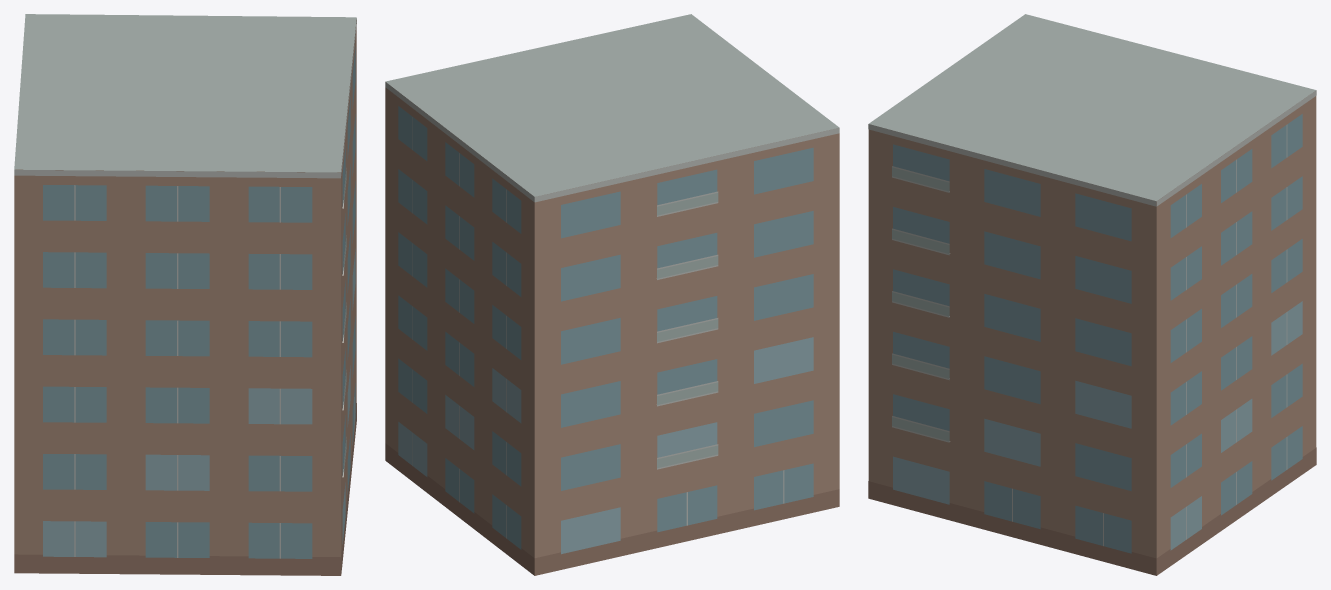
Rendered from survey-upis-32988986.glb.
3 renders of one model, left to right at view 1: azimuth 30°, elevation 25°; view 2: azimuth 150°, elevation 25°; view 3: azimuth 270°, elevation 25°, orthographic. The views are drawn at different scales.
Visible parts, largest first — view 1: survey-upis-32988986.tmp; view 2: survey-upis-32988986.tmp; view 3: survey-upis-32988986.tmp.
Boxes of the visible parts, x1,y1,x2,y2 form: survey-upis-32988986.tmp: (14,14,356,575); survey-upis-32988986.tmp: (385,14,839,575); survey-upis-32988986.tmp: (868,14,1316,575).
Bounding box in the file's own units: 17.8 × 16.6 × 18.
